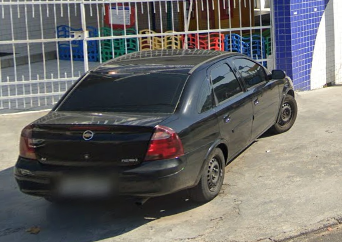car: (16, 48, 298, 207)
